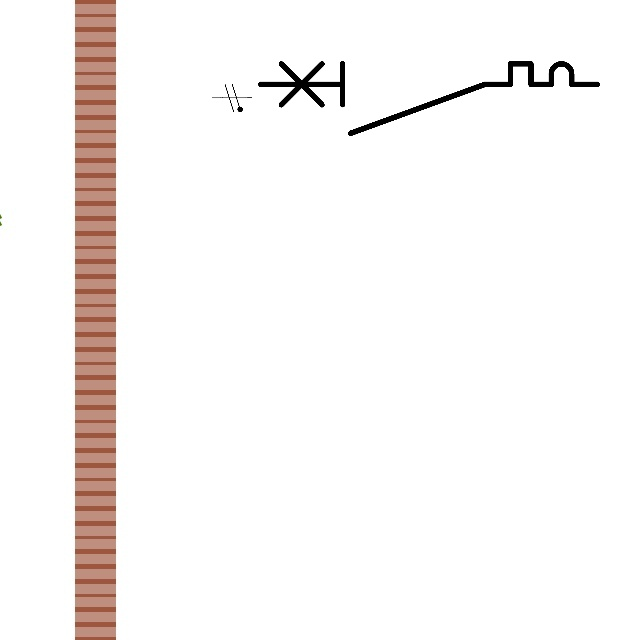interruptor_termomagnetico: (252, 55, 606, 141)
